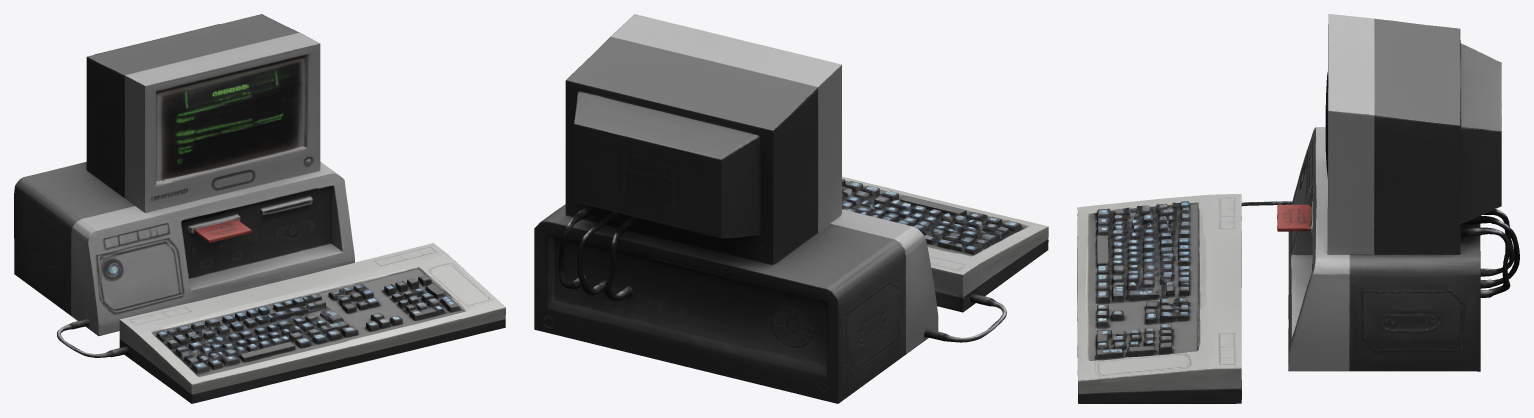
The model's file is PartObjaverseTiny_Fourteen.glb.
3 renders of one model, left to right at view 1: azimuth 30°, elevation 25°; view 2: azimuth 150°, elevation 25°; view 3: azimuth 270°, elevation 25°, orthographic. The views are drawn at different scales.
Parts seen in each view (by area): view 1: world; view 2: world; view 3: world.
Boxes of the visible parts, <box> form: world: <box>14,14,505,403</box>; world: <box>534,14,1048,403</box>; world: <box>1077,14,1519,403</box>.
Bounding box in the file's own units: 0.9997 × 0.6001 × 0.9567.
Materials: 1 (1 with a texture image).
